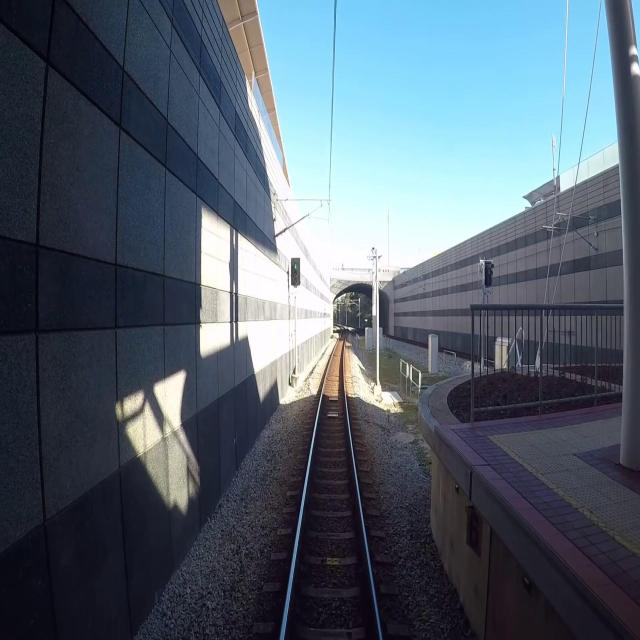rail-track: (284, 329, 378, 639)
